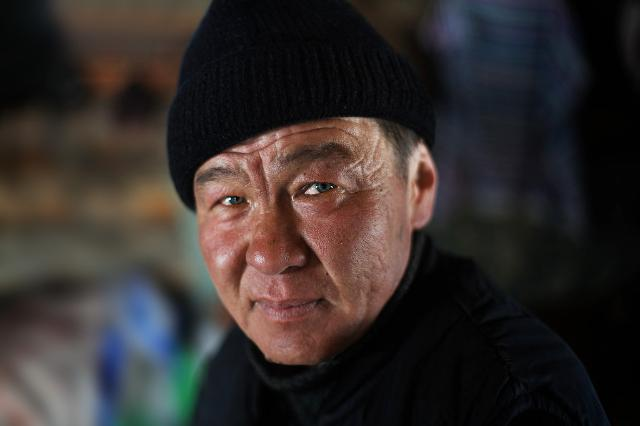crows_feet: (348, 178, 370, 200)
forehead: (227, 143, 285, 161), (286, 124, 360, 138)
frown_line: (256, 166, 276, 202)
gummy_smile: (310, 244, 340, 284), (230, 260, 253, 298)
